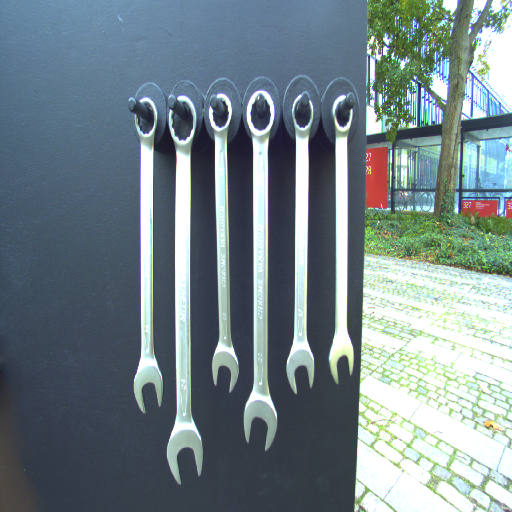bottom: (165, 421, 206, 487), (241, 391, 281, 454), (130, 357, 165, 416), (285, 341, 318, 395), (210, 340, 240, 394), (326, 337, 356, 386)
top: (166, 95, 197, 146), (246, 89, 274, 140), (127, 96, 160, 139), (330, 92, 355, 139), (290, 92, 315, 136), (206, 94, 233, 133)
